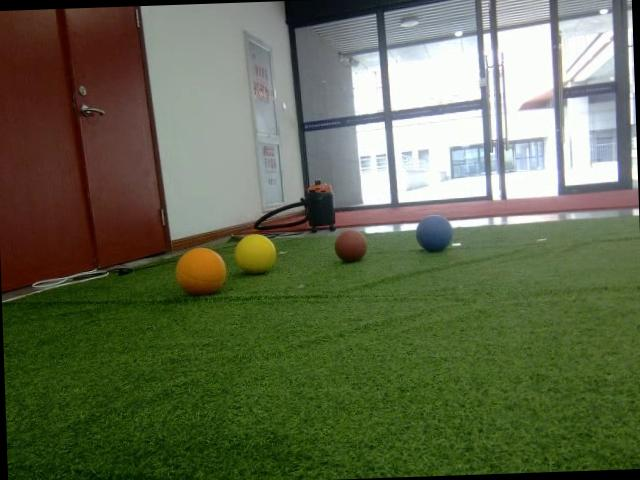blue_ball: (416, 214, 454, 252)
orange_ball: (174, 246, 228, 296)
red_ball: (333, 228, 368, 264)
yellow_ball: (232, 233, 277, 276)
